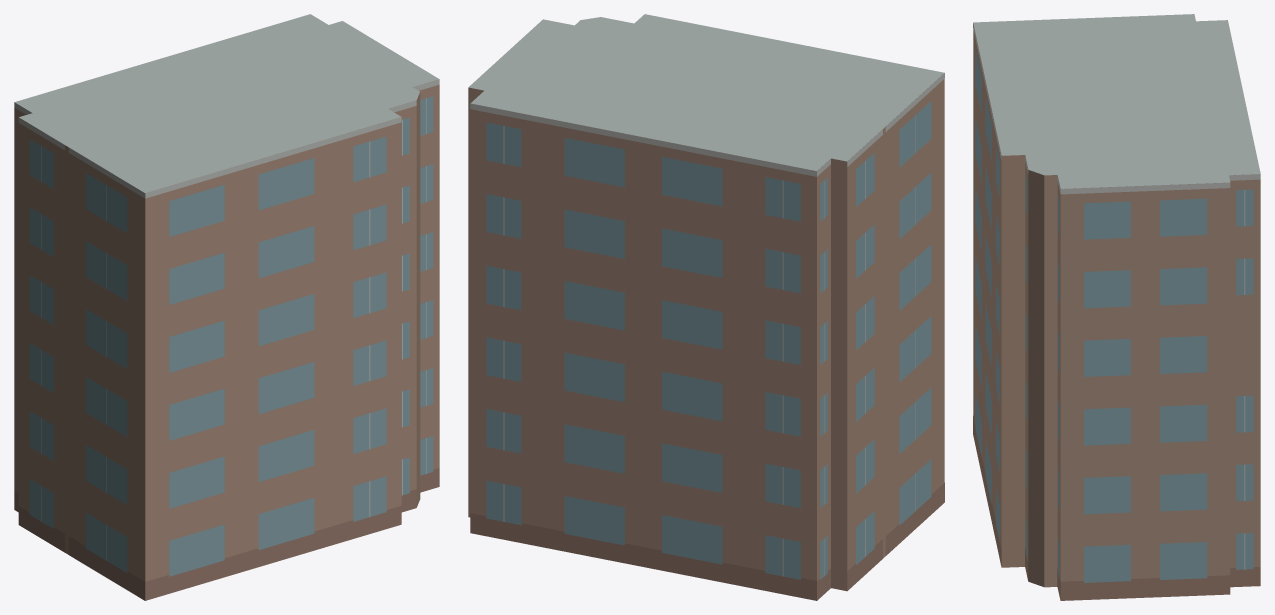
The model's file is survey-upis-32667197.glb.
The picture shows the model from 3 angles, left to right: view 1: azimuth 30°, elevation 25°; view 2: azimuth 150°, elevation 25°; view 3: azimuth 270°, elevation 25°; orthographic projection. The views are drawn at different scales.
Parts seen in each view (by area): view 1: survey-upis-32667197.tmp; view 2: survey-upis-32667197.tmp; view 3: survey-upis-32667197.tmp.
Boxes of the visible parts, left/top/right/bottom form: survey-upis-32667197.tmp: left=14, top=14, right=439, bottom=600; survey-upis-32667197.tmp: left=468, top=14, right=944, bottom=600; survey-upis-32667197.tmp: left=973, top=14, right=1260, bottom=600.
Size of the model in its own units: 16.68 by 18.3 by 11.59.
